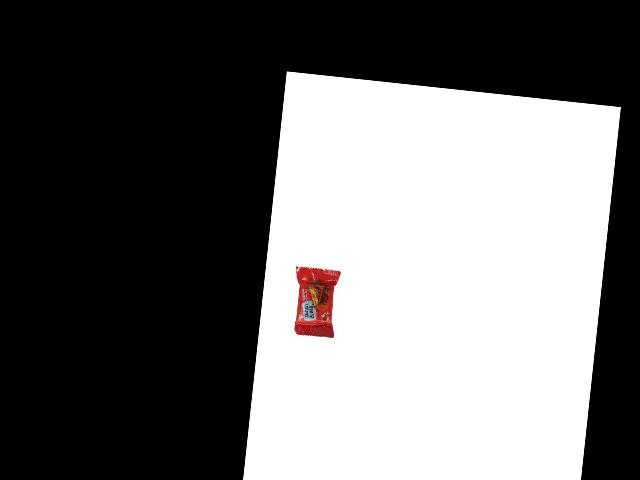chocolate: (284, 264, 340, 344)
